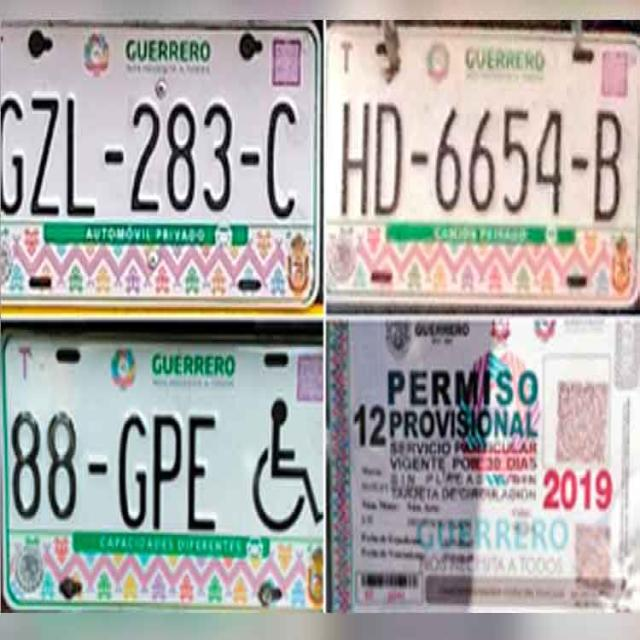placa: (328, 87, 634, 229), (0, 87, 316, 223), (3, 393, 246, 535)
